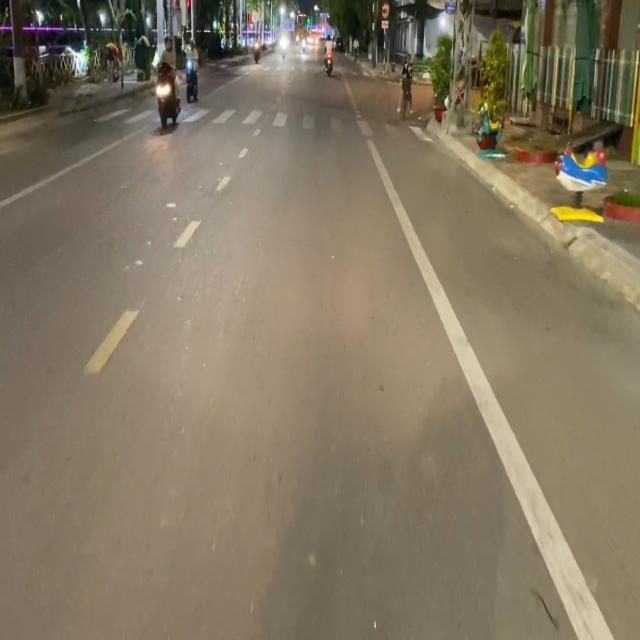walk-crossing: (184, 111, 438, 145), (90, 102, 162, 124)
